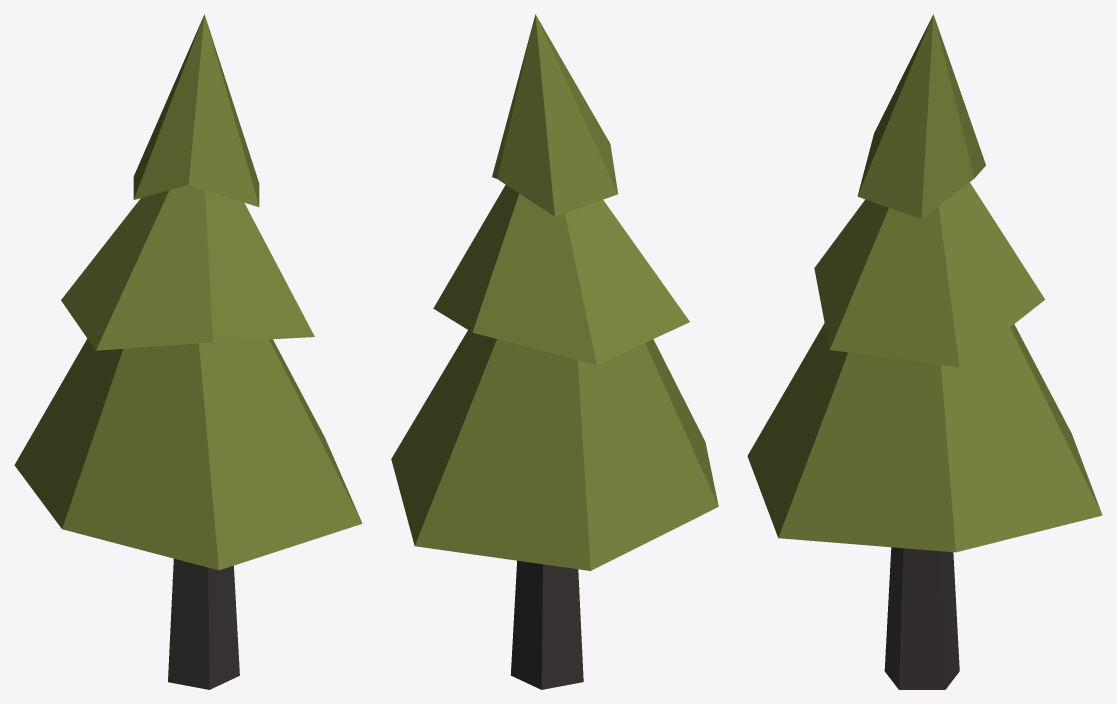
Rendered from TB_Env_Tree_Small_C.FBX.
3 renders of one model, left to right at view 1: azimuth 30°, elevation 25°; view 2: azimuth 150°, elevation 25°; view 3: azimuth 270°, elevation 25°, orthographic.
Visible parts, largest first — view 1: TB_Env_Tree_Small_C; view 2: TB_Env_Tree_Small_C; view 3: TB_Env_Tree_Small_C.
Boxes of the visible parts, bbox=[...] form: TB_Env_Tree_Small_C: bbox=[14, 14, 362, 689]; TB_Env_Tree_Small_C: bbox=[391, 14, 718, 689]; TB_Env_Tree_Small_C: bbox=[747, 14, 1102, 689].
Size of the model in its own units: 2.81 by 5.98 by 2.89.
